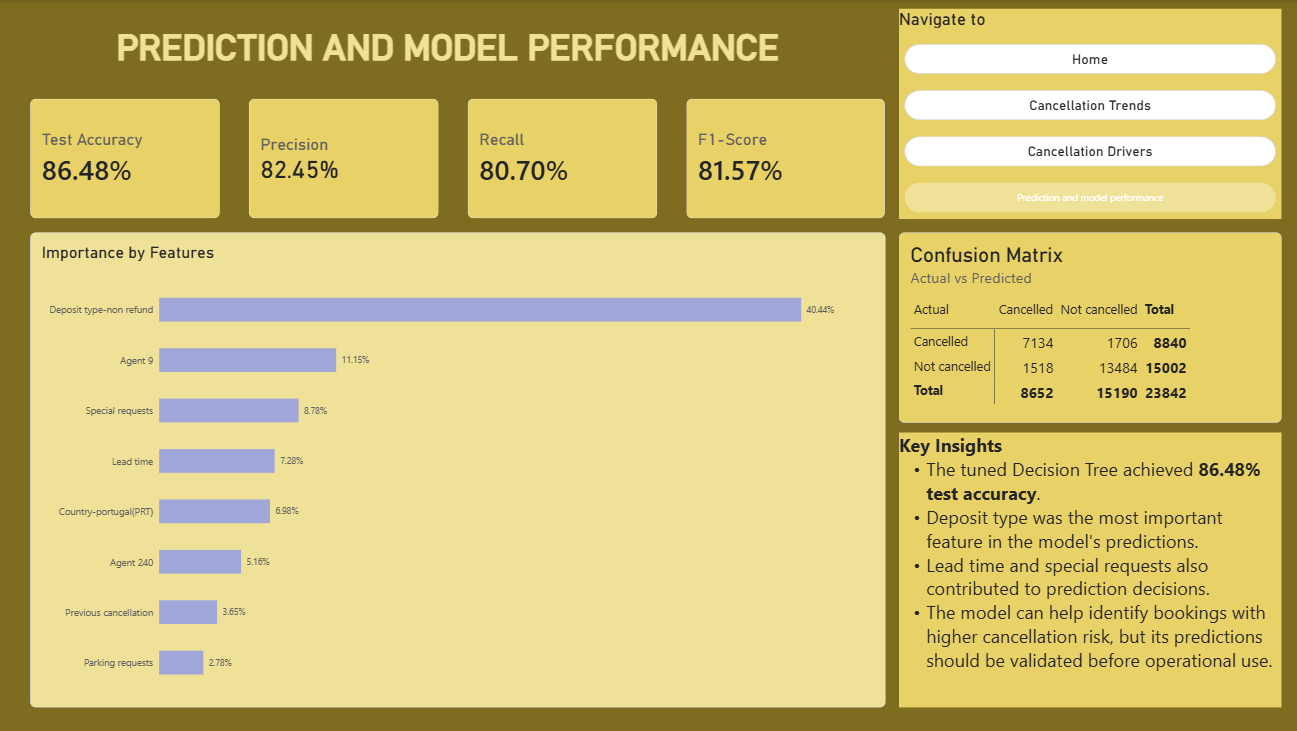

The dashboard page shown, as its layout file describes it:
{"tool":"powerbi","page":{"name":"Prediction and model performance","canvas":[1920,1080],"ordinal":3},"visuals":[{"type":"cardVisual","fields":{"Data":["hotel_cancellation_cleaned.Test Accuracy"]},"box":[53.4,145.4,279.8,176.7],"z":0},{"type":"cardVisual","fields":{"Data":["hotel_cancellation_cleaned.Precision"]},"box":[375.5,145.4,279.8,176.7],"z":1000},{"type":"cardVisual","fields":{"Data":["hotel_cancellation_cleaned.Recall"]},"box":[697.5,145.4,279.8,176.7],"z":2000},{"type":"cardVisual","fields":{"Data":["hotel_cancellation_cleaned.F1-Score"]},"box":[1019.6,145.4,292.6,176.7],"z":3000},{"type":"clusteredBarChart","title":"Importance by Features","fields":{"Category":["Table.Features"],"Y":["Sum(Table.Importance)"]},"box":[53.4,342.3,1258.9,699.4],"z":4000},{"type":"pivotTable","title":"Confusion Matrix","fields":{"Columns":["Table (2).Predicted"],"Rows":["Table (2).Actual"],"Values":["Sum(Table (2).Booking)"]},"box":[1332.5,342.3,563.2,279.8],"z":5000},{"type":"textbox","box":[1332.5,636.8,563.2,404.9],"z":6000},{"type":"pageNavigator","title":"Navigate to","box":[1332.5,12.9,563.2,309.2],"z":6001},{"type":"textbox","box":[180.4,38.7,1108,82.8],"z":6002}]}

Visuals, with their boxes in screenshot pixels (x1, y1, x2, y2), scaled from the page's 1920x1080 canvas onto the 1297x731 screenshot:
cardVisual - hotel_cancellation_cleaned.Test Accuracy: box(36, 98, 225, 218)
cardVisual - hotel_cancellation_cleaned.Precision: box(254, 98, 443, 218)
cardVisual - hotel_cancellation_cleaned.Recall: box(471, 98, 660, 218)
cardVisual - hotel_cancellation_cleaned.F1-Score: box(689, 98, 886, 218)
"Importance by Features" clusteredBarChart: box(36, 232, 886, 705)
"Confusion Matrix" pivotTable: box(900, 232, 1281, 421)
textbox: box(900, 431, 1281, 705)
"Navigate to" pageNavigator: box(900, 9, 1281, 218)
textbox: box(122, 26, 870, 82)
